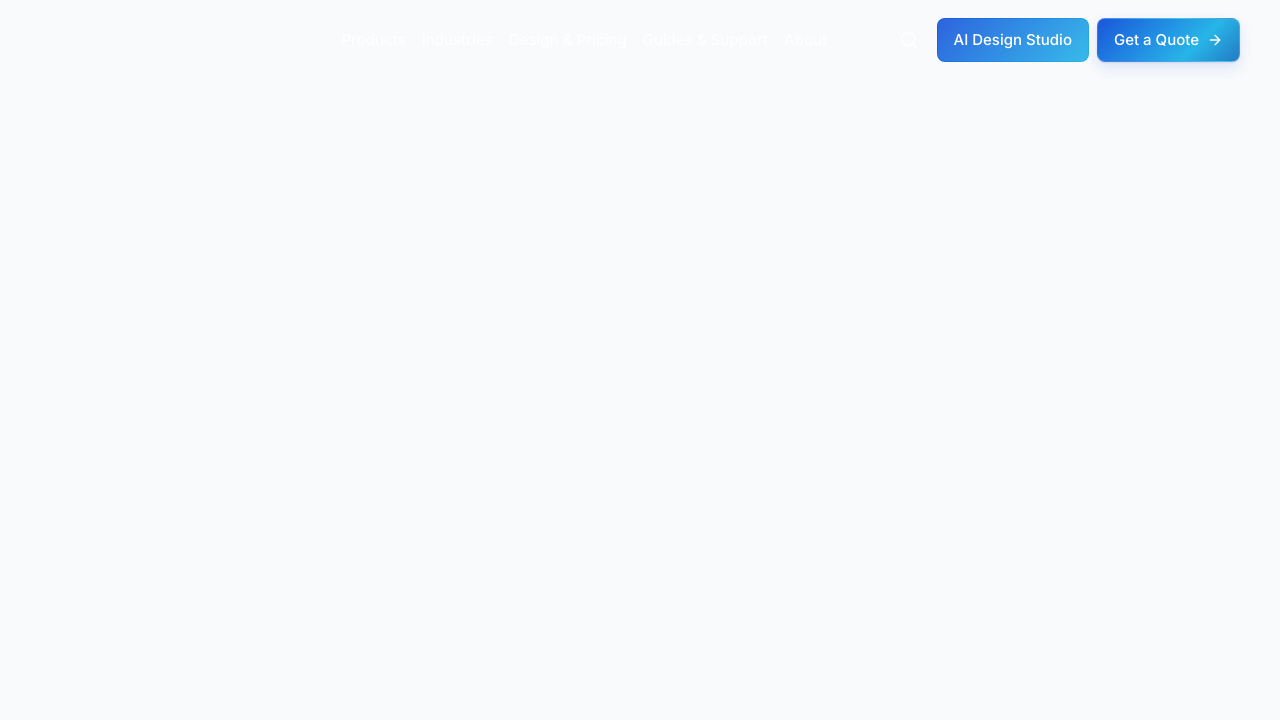
Scenario: navigation system › shows grouped search results, empty state, and no-results state
Press k
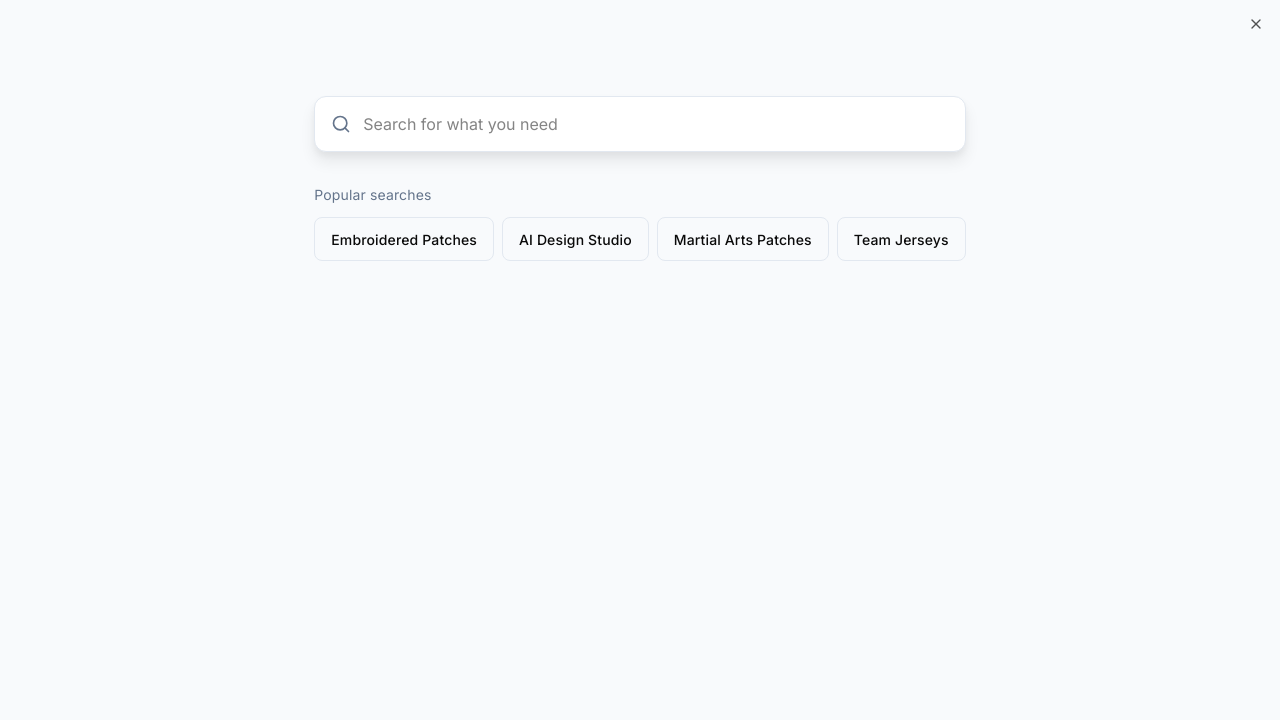
Expected: the text "Popular searches" is shown, [314,186,432,203]
Type "AI Design Studio" into the search field named "Search products, industries, design and pricing, guides and support, about pages, and blog". click: [656, 124]
box: [363,98,949,150]
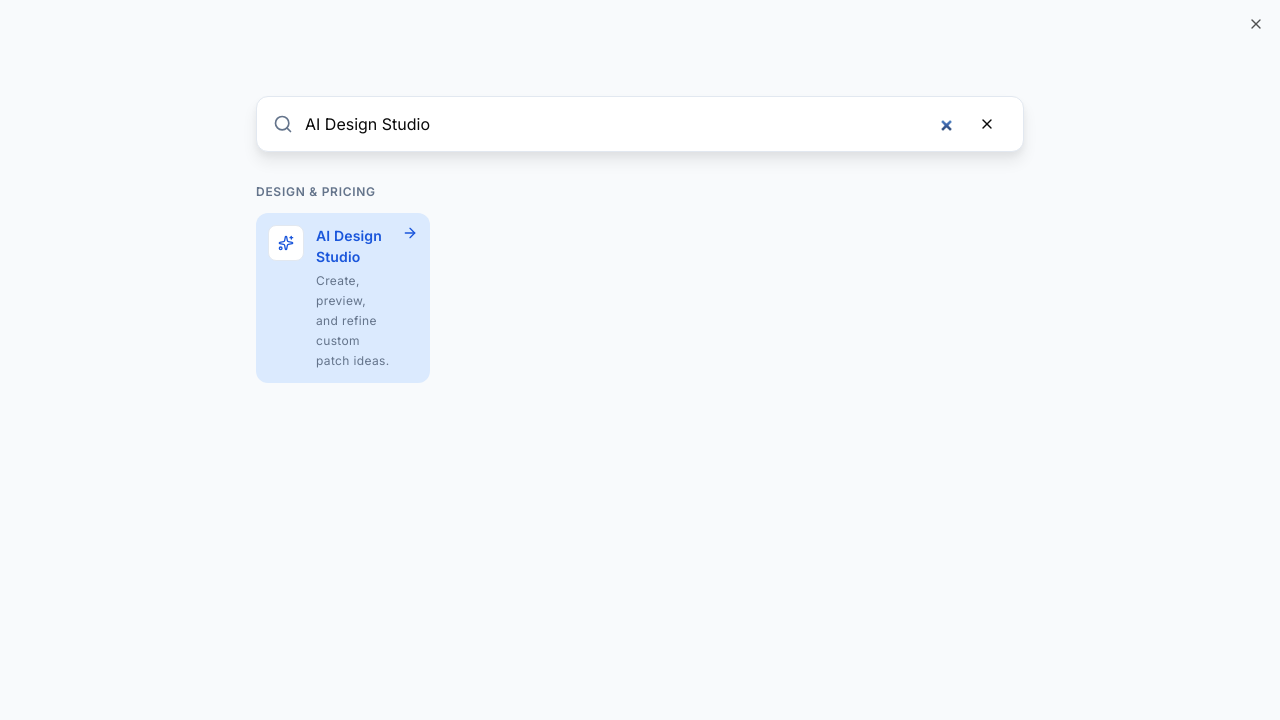
Expected: the heading "Design & Pricing" is shown, [256,184,376,199]
Expected: the button "AI Design Studio" is shown, [256,213,430,383]
Replace the text in the search field named "Search products, industries, design and pricing, guides and support, about pages, and blog" with "Martial Arts Schools". click: [630, 124]
box: [305,98,955,150]
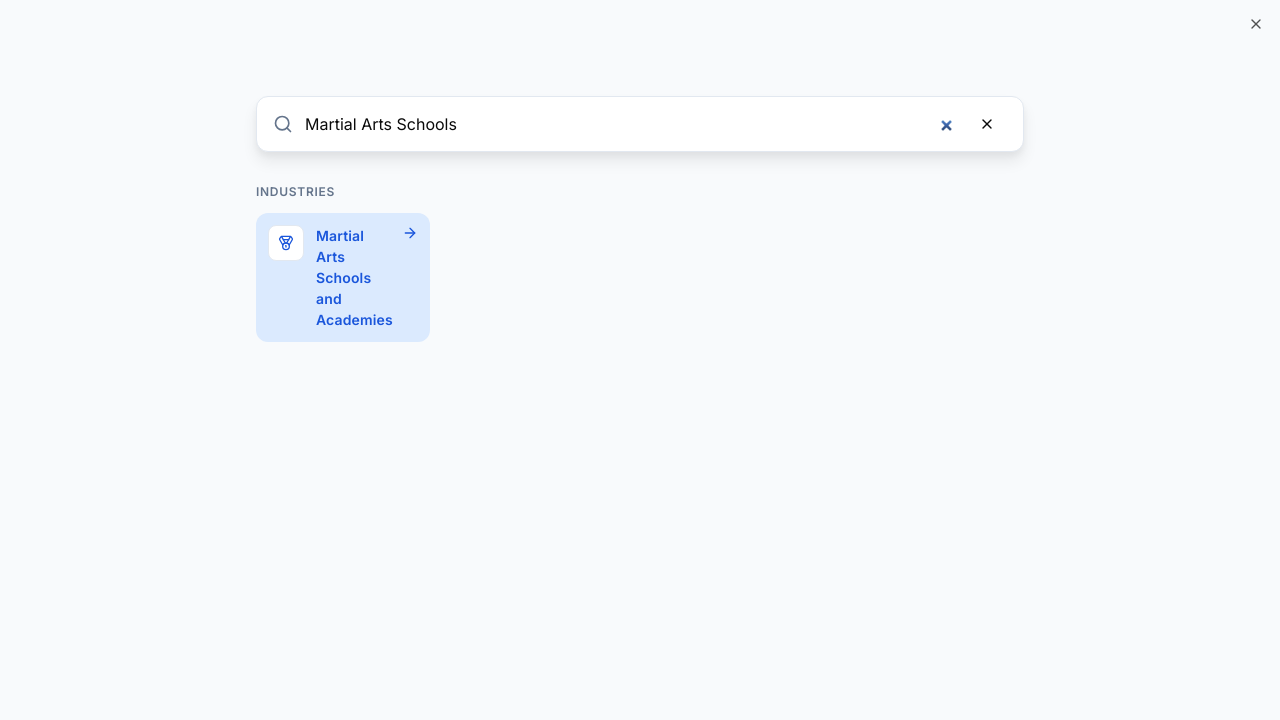
Expected: the heading "Industries" is shown, [256,184,335,199]
Expected: the button "Martial Arts Schools and Academies" is shown, [256,213,430,342]
Replace the text in the search field named "Search products, industries, design and pricing, guides and support, about pages, and blog" with "zzzz-not-found". click: [630, 124]
box: [305,98,955,150]
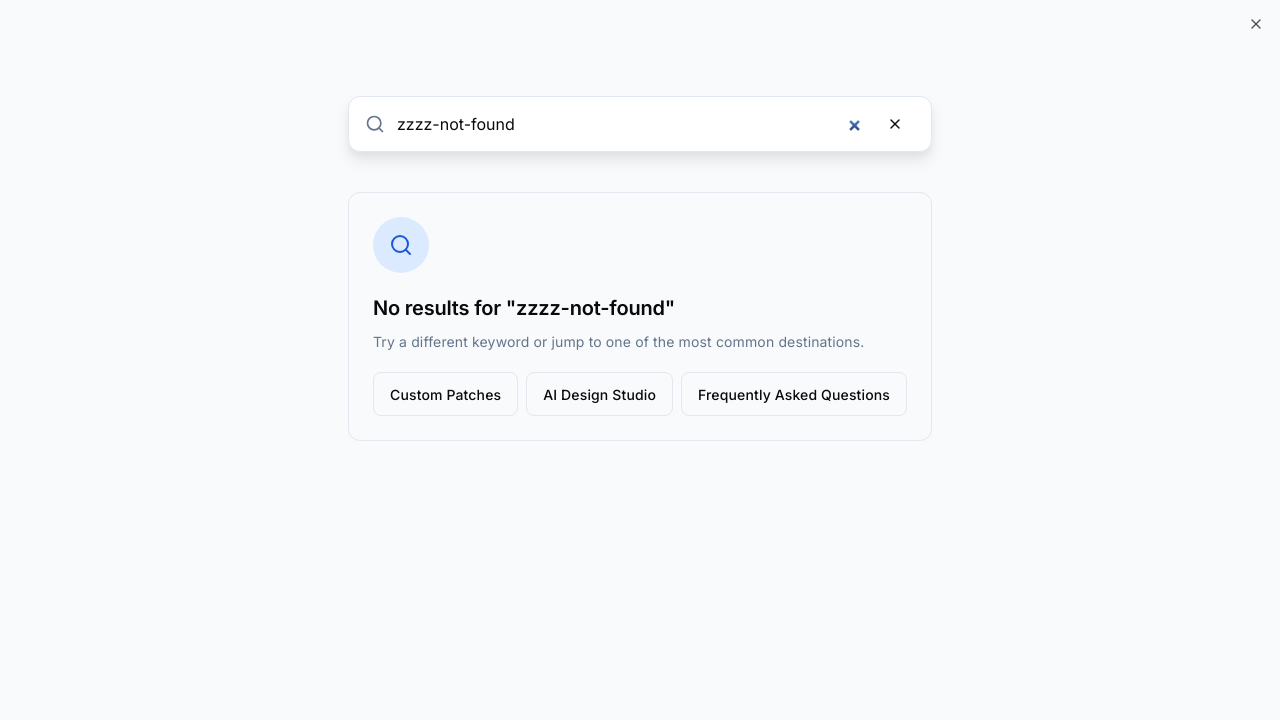
Expected: the text "No results for \"zzzz-not-found\"" is shown, [373,296,675,320]
